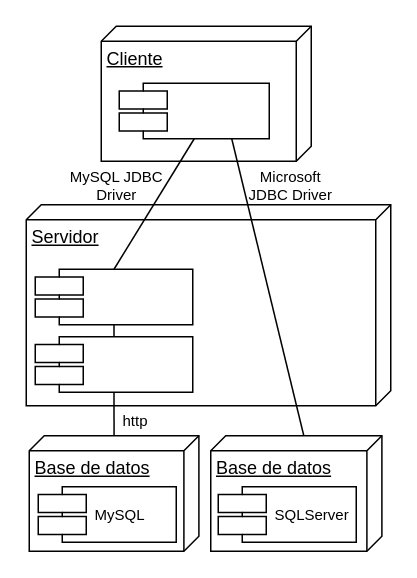
Image size: 417x578. Some labels were removed from this diagram. The shapes that lost their labels are listed below. From the top down, each one's centre as x and y in pixels, then its label:
[193,110]: Programa
[113,296]: Apache XAMMP
[113,363]: MyPHPAdmin
